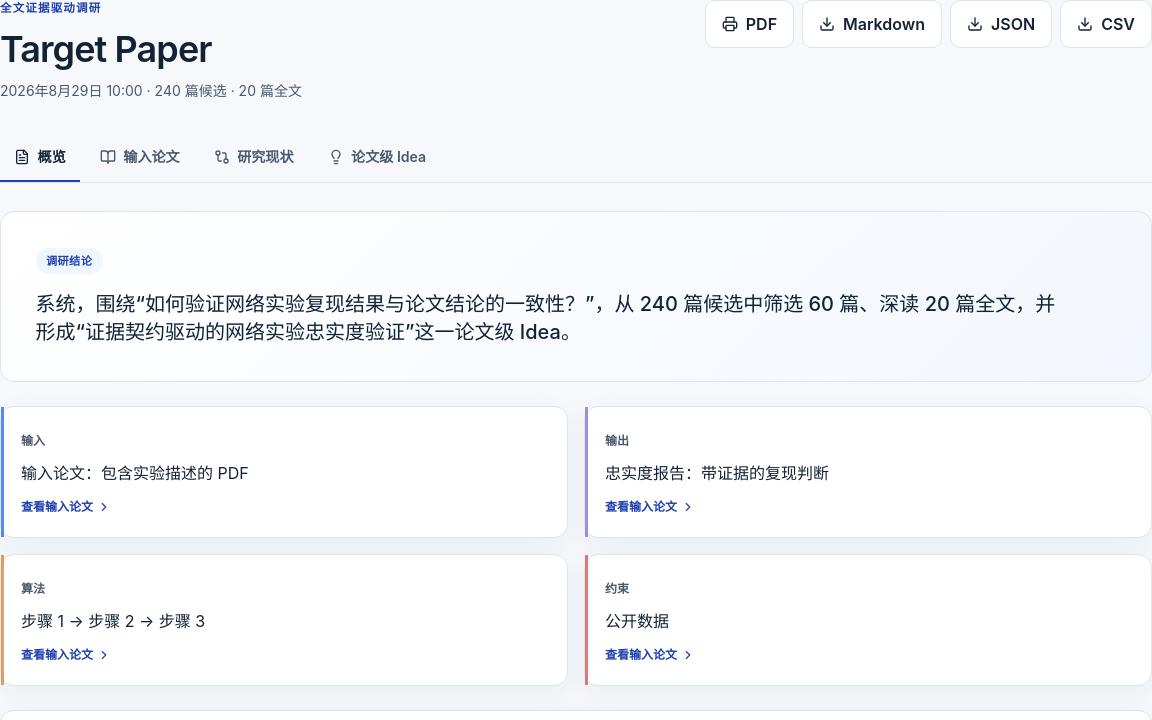
Scenario: ReportPage › keeps private Idea PDFs unavailable from the public share view
The image size is (1152, 720).
Click the tab "论文级 Idea": (377, 158) [314,133,440,182]
(page scrolled)
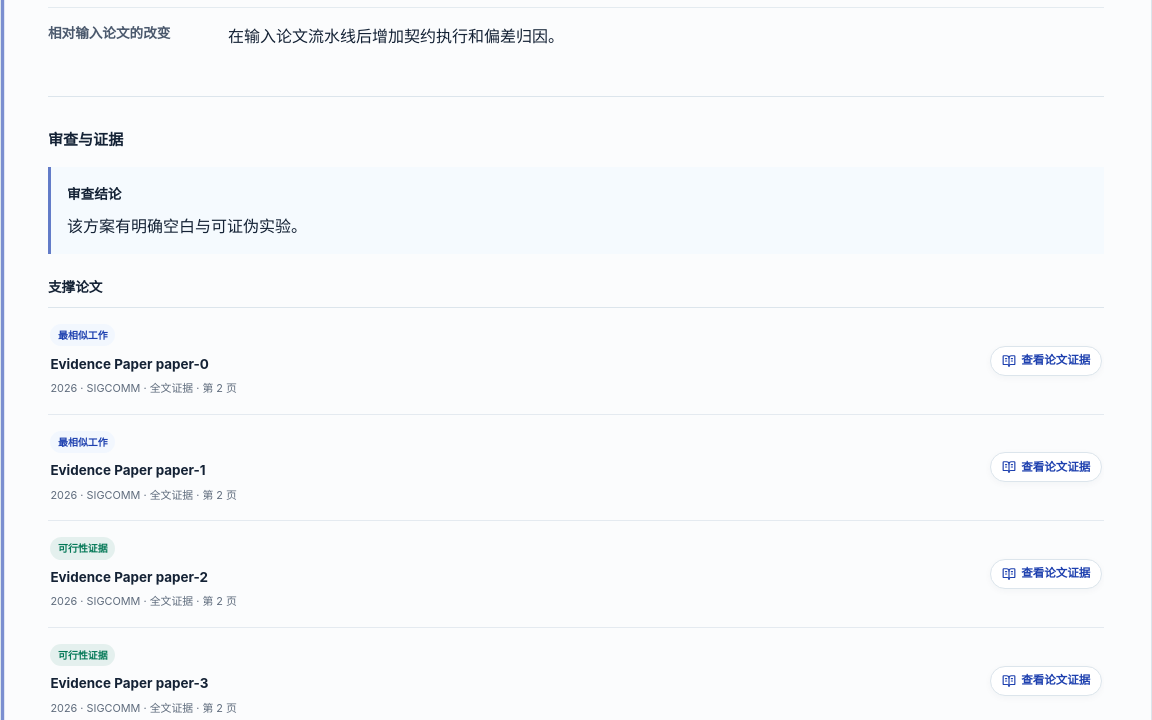
Click the button "查看论文证据" in the row of "Evidence Paper paper-0": (1046, 361) [990,346,1102,376]
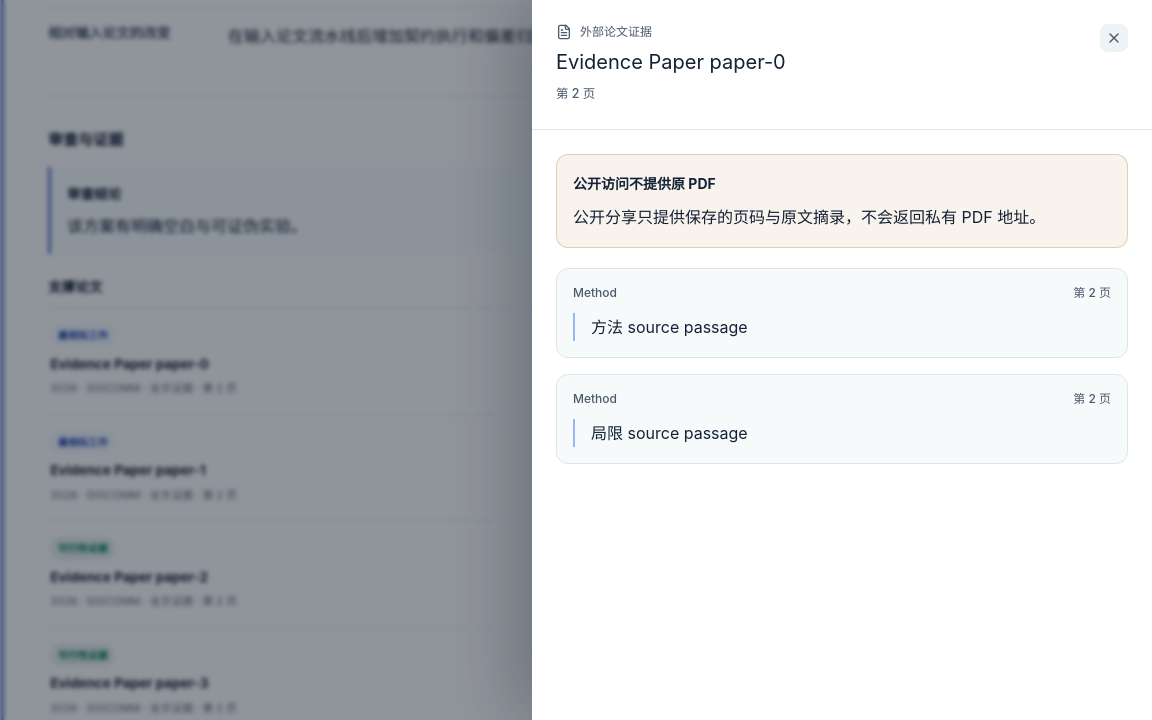
Check: the text "外部论文证据" is shown, box [556,24,652,40]
Check: the text "公开访问不提供原 PDF" is shown, box [573,175,716,192]
